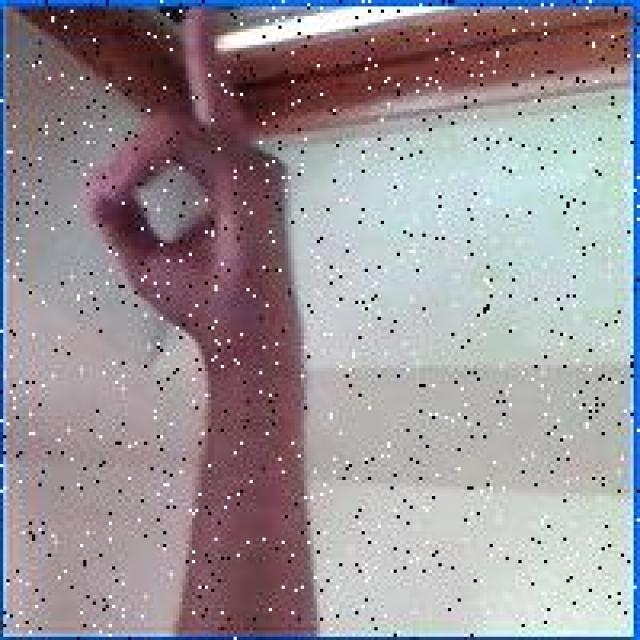D: (81, 6, 302, 384)
